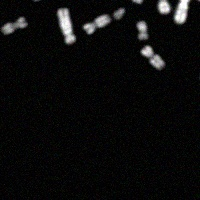chromosome: (57, 8, 76, 43), (83, 13, 110, 34), (141, 46, 164, 70), (1, 15, 28, 34), (174, 0, 194, 24), (136, 21, 148, 40), (157, 0, 170, 14), (113, 6, 124, 19), (132, 0, 145, 4), (31, 0, 72, 1), (195, 0, 200, 4), (198, 72, 200, 82)
